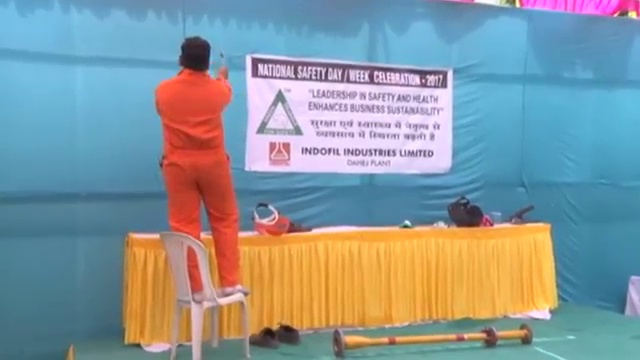helmet_off: (177, 36, 212, 74)
person: (150, 37, 254, 300)
